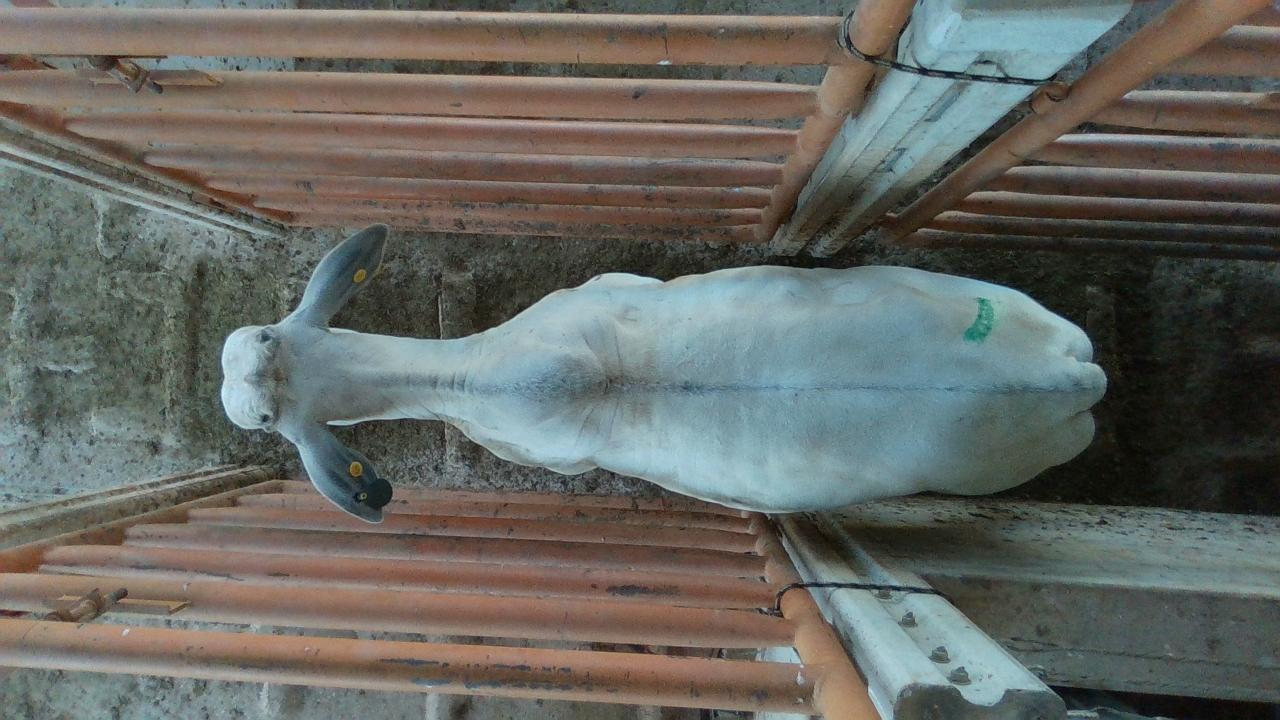cattle: (218, 221, 1108, 523)
